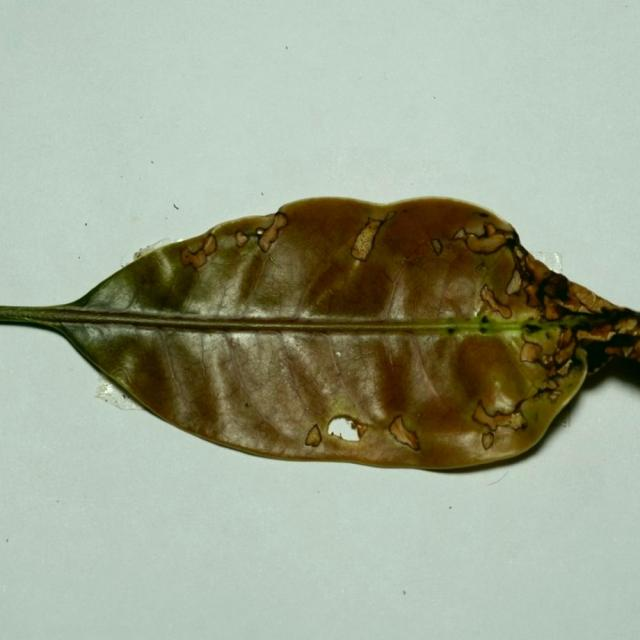Anthracnose: (487, 336, 581, 444), (304, 396, 409, 461), (181, 211, 286, 271), (429, 219, 518, 268), (567, 309, 638, 365), (523, 323, 578, 385), (470, 398, 528, 449), (552, 278, 625, 317), (517, 252, 561, 313), (350, 211, 395, 262), (503, 240, 536, 297), (179, 233, 218, 271), (479, 283, 514, 321), (519, 333, 547, 365), (402, 243, 429, 263), (305, 423, 322, 447), (180, 247, 197, 267), (482, 431, 495, 450), (430, 238, 443, 256), (452, 227, 468, 240)
Mango: (0, 197, 639, 476)
